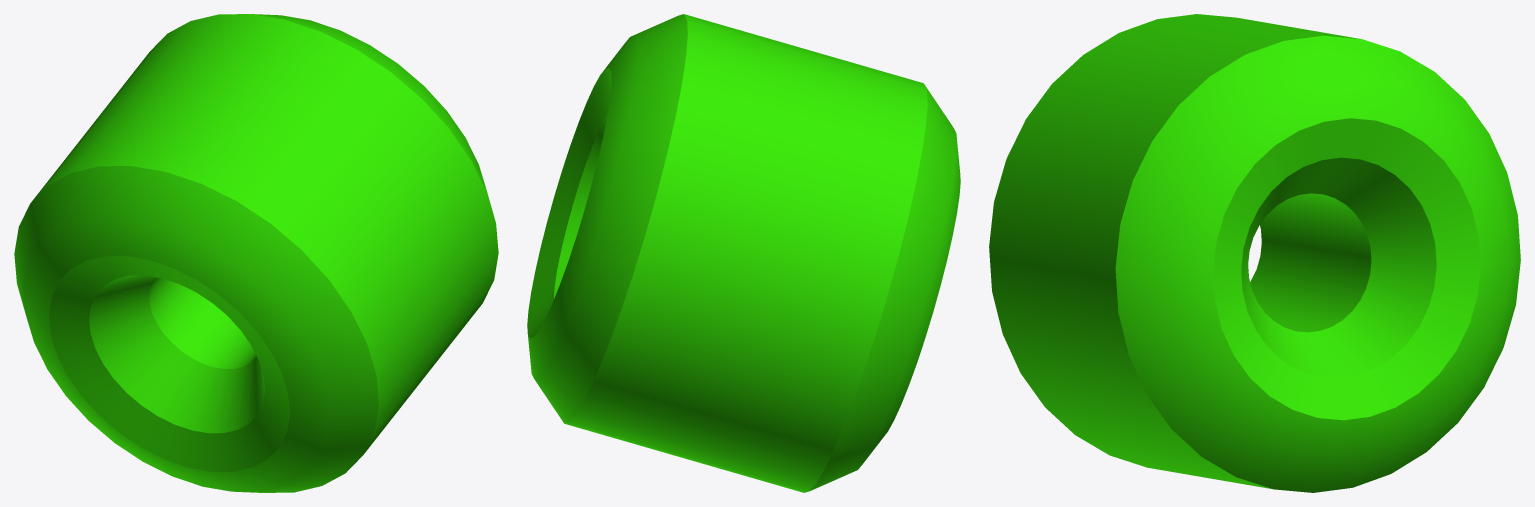
File: roue 2.fbx
The picture shows the model from 3 angles, left to right: view 1: azimuth 30°, elevation 25°; view 2: azimuth 150°, elevation 25°; view 3: azimuth 270°, elevation 25°; orthographic projection. The views are drawn at different scales.
Visible parts, largest first — view 1: Roue2 Anim; view 2: Roue2 Anim; view 3: Roue2 Anim.
Part boxes in pixels (<box>): Roue2 Anim: <box>14,14,498,492</box>; Roue2 Anim: <box>527,14,960,492</box>; Roue2 Anim: <box>989,14,1520,492</box>.
Bounding box in the file's own units: 35.37 × 35.85 × 36.76.
